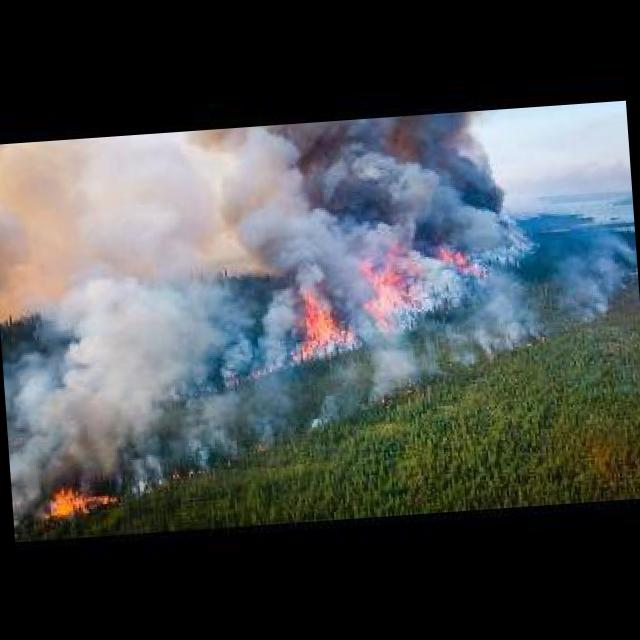Fire: (356, 224, 426, 338), (285, 274, 361, 362), (36, 472, 120, 526), (429, 231, 492, 287)
Smoke: (0, 139, 252, 473), (229, 110, 504, 254), (242, 279, 301, 380)
